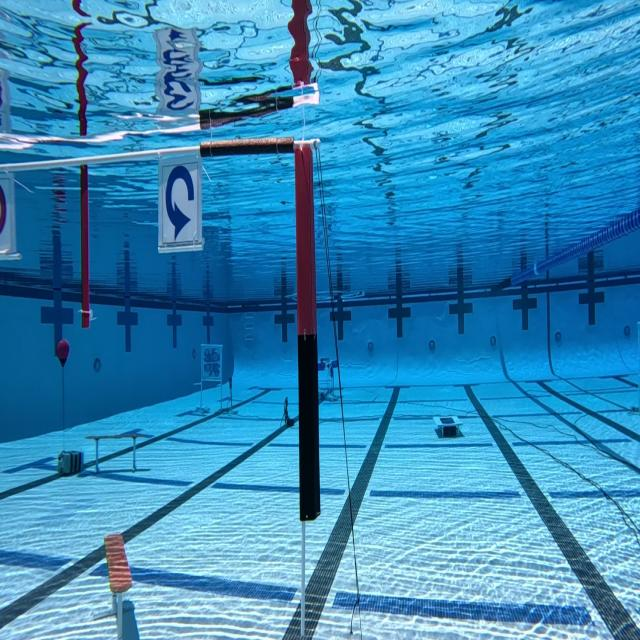blue_side: (155, 152, 204, 249)
